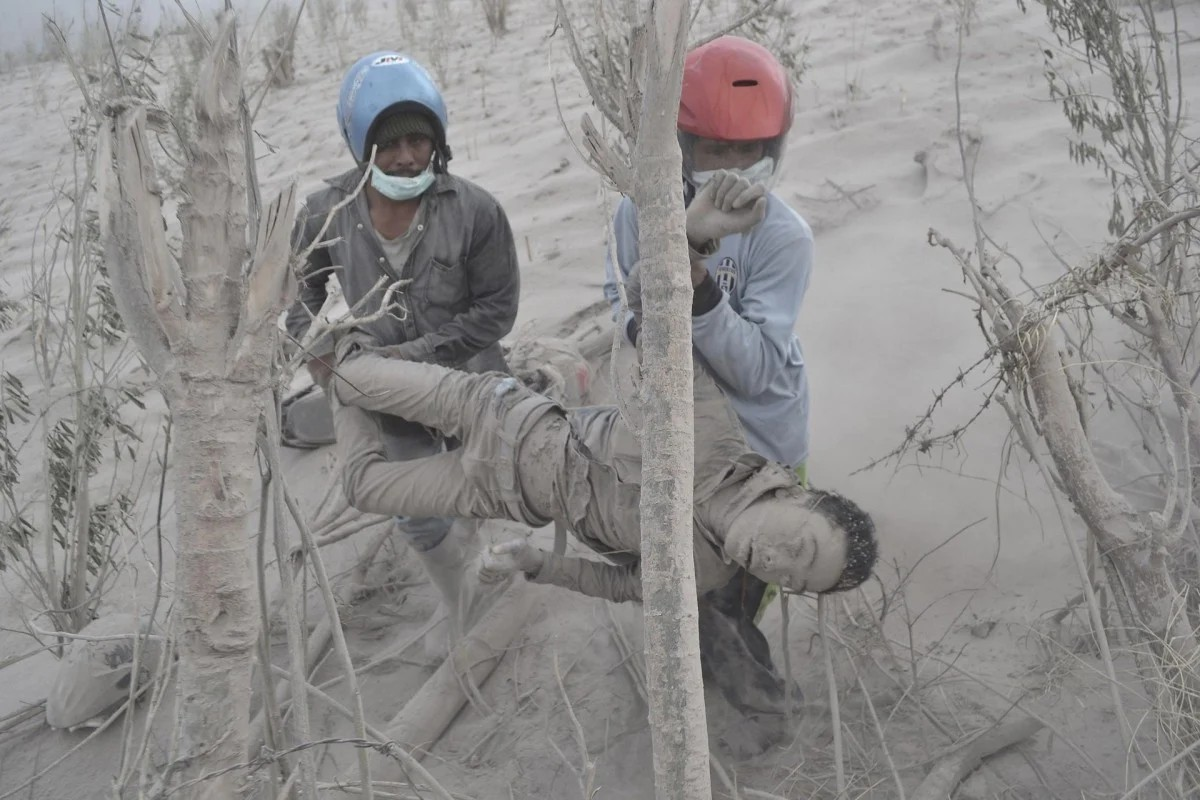BukanKorban: (274, 48, 521, 665), (604, 36, 813, 758)
Korban: (304, 326, 878, 608)
